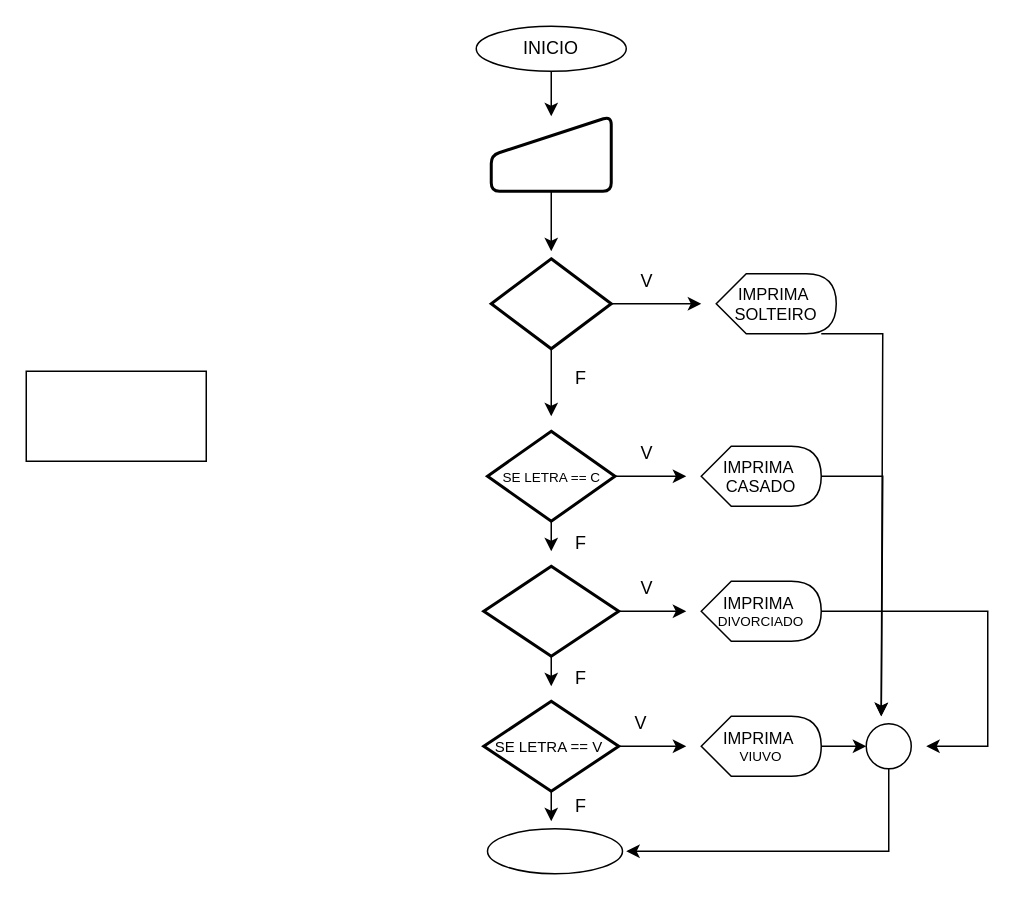
This 1026x912 diagram has some shape labels left out. The shapes that lost their labels are listed below. From the top down, each one's box as (x1, y1, x2, y2) in pixels, then its label:
(489, 114, 612, 192): LEITURA LETRA
(489, 256, 612, 350): SE LETRA == S
(482, 564, 620, 657): SE LETRA == D
(486, 827, 622, 874): FIM
